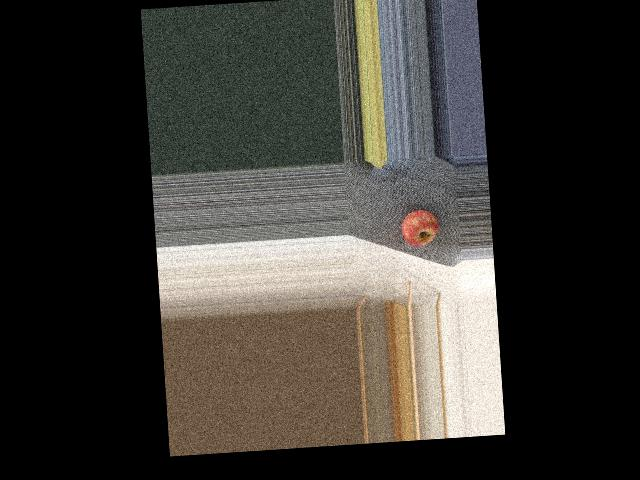apple: (399, 205, 442, 249)
